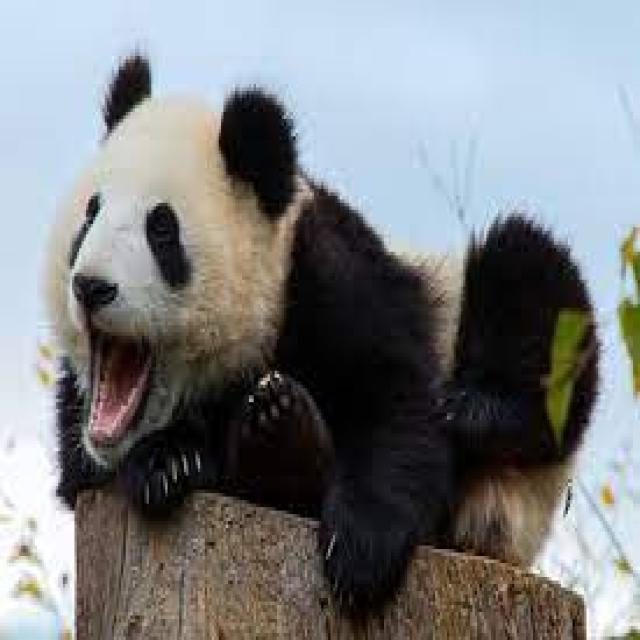Herbivorous: (47, 52, 596, 616)
